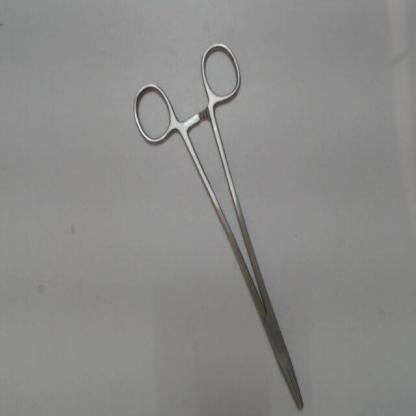8 Mayo Needle Holder: (126, 34, 311, 416)
